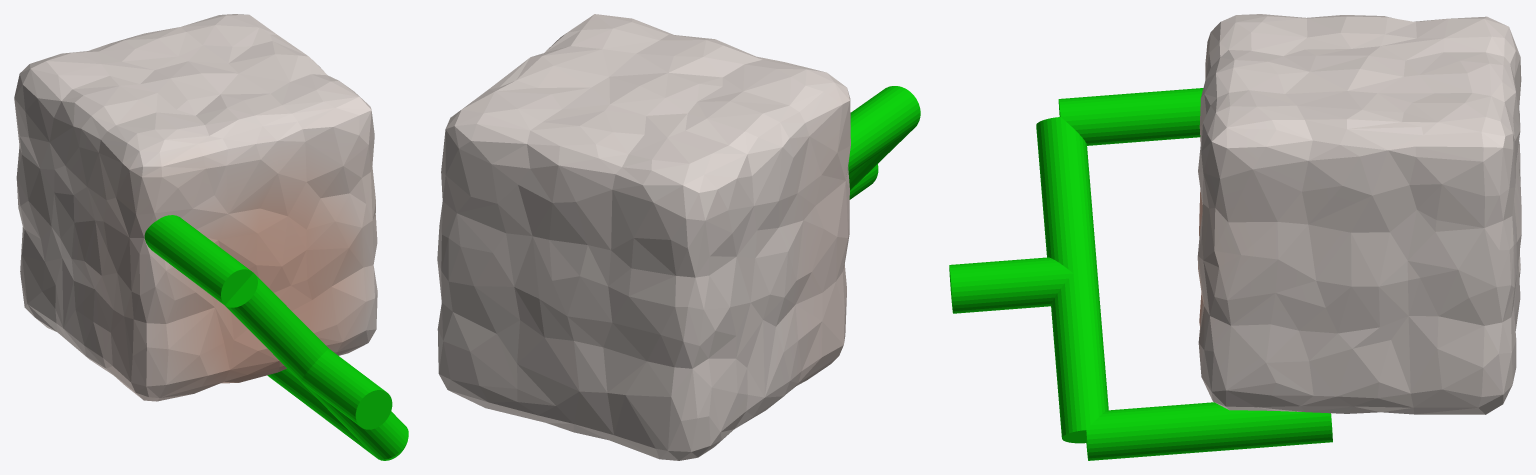
The model's file is round_000_trial_001.obj.
3 views of the same model, side by side, from view 1: azimuth 30°, elevation 25°; view 2: azimuth 150°, elevation 25°; view 3: azimuth 270°, elevation 25° (orthographic). The views are drawn at different scales.
Parts seen in each view (by area): view 1: geometry_0, geometry_1; view 2: geometry_0, geometry_1; view 3: geometry_0, geometry_1.
Part boxes in pixels (x1,y1,x2,y2): geometry_0: [14, 14, 377, 401]; geometry_1: [144, 215, 408, 460]; geometry_0: [437, 14, 850, 460]; geometry_1: [848, 86, 920, 199]; geometry_0: [1197, 14, 1521, 414]; geometry_1: [949, 88, 1332, 460].
Size of the model in its own units: 0.0662 by 0.0794 by 0.1167.
